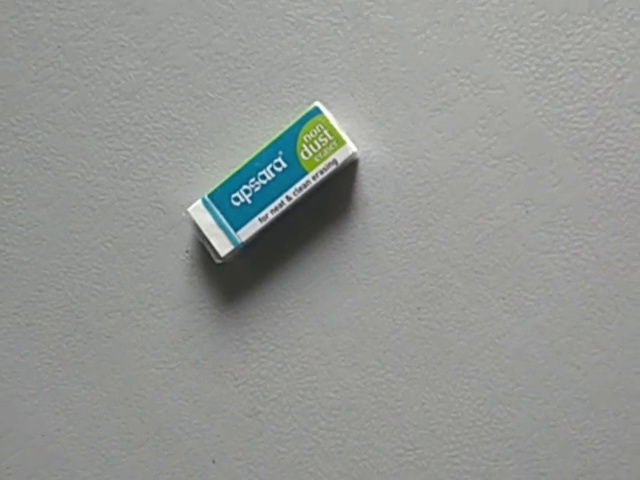Eraser: (179, 93, 374, 273)
